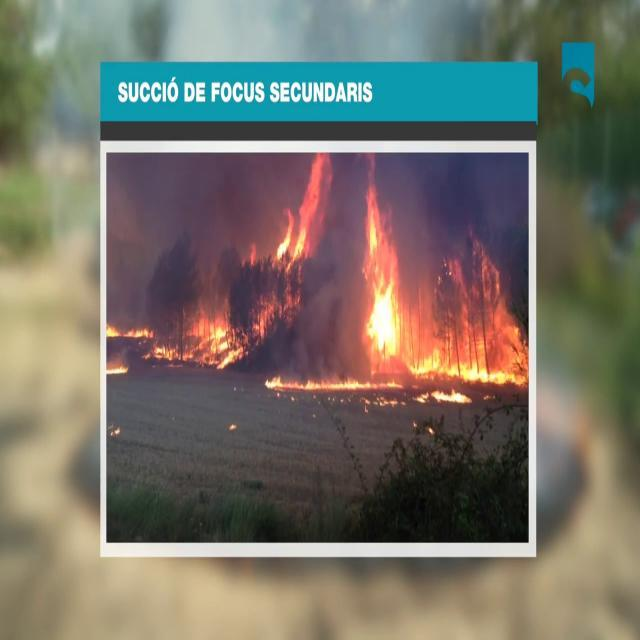Fire: (356, 184, 526, 393), (106, 302, 242, 368), (273, 156, 327, 272), (264, 371, 372, 396)
